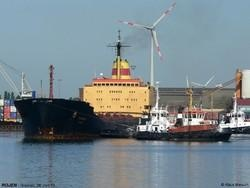Cargoship: (13, 29, 159, 143)
